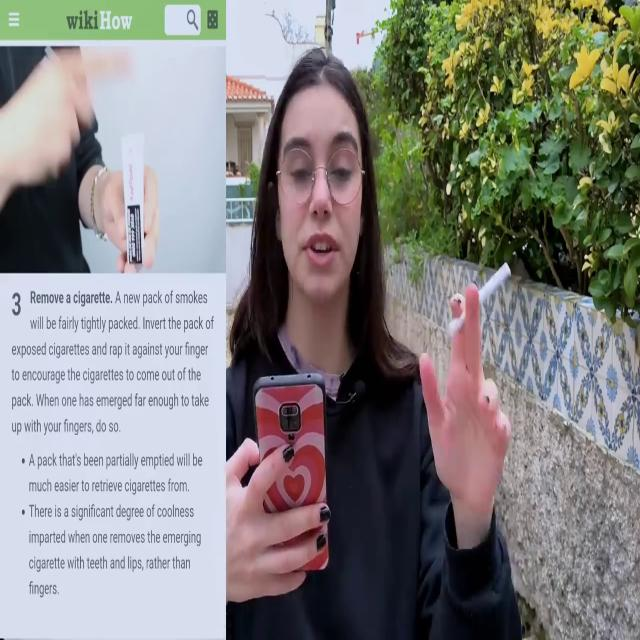Smooking: (438, 236, 520, 356)
